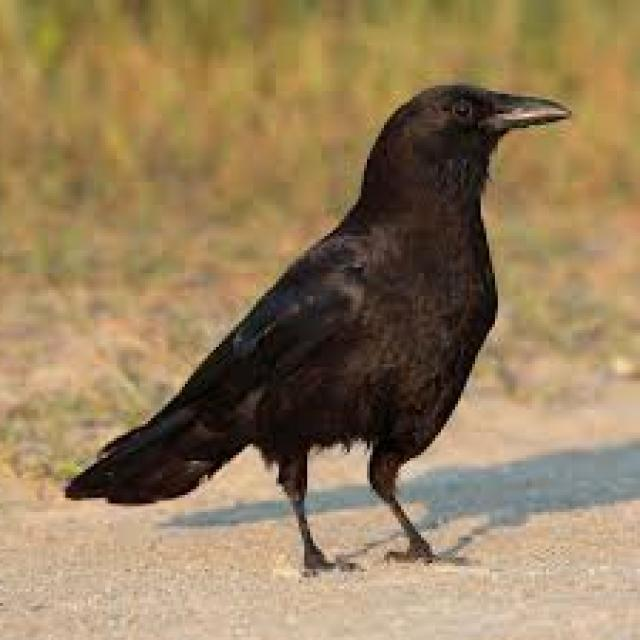crow: (71, 82, 572, 572)
